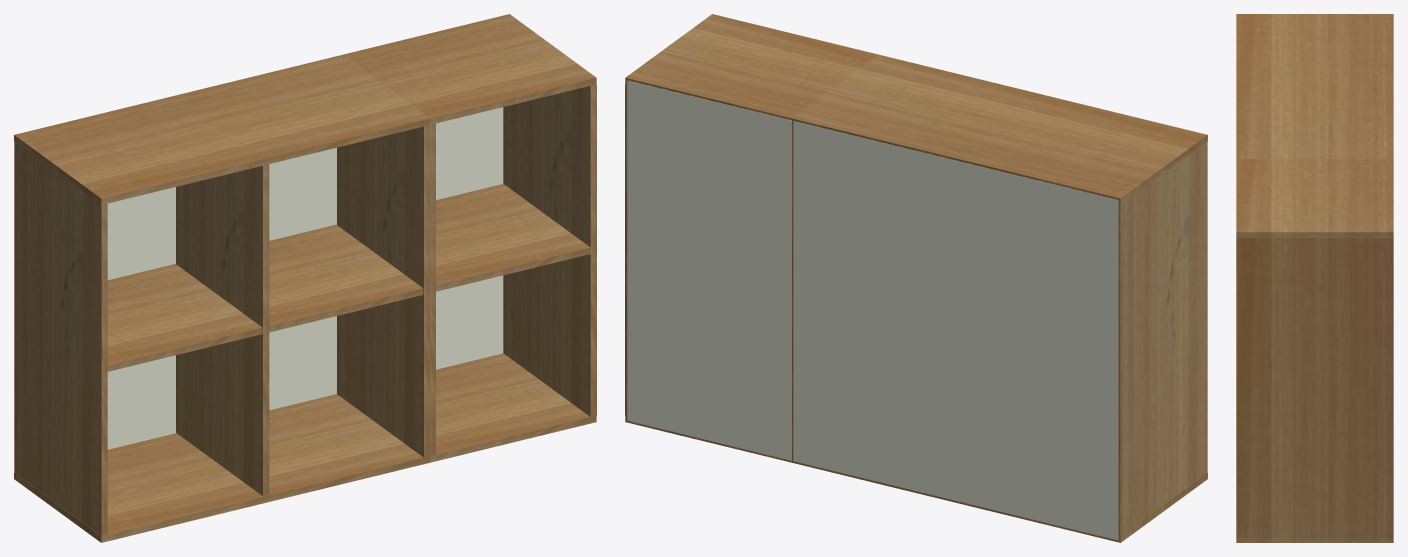
Rendered from plateskap.glb.
3 renders of one model, left to right at view 1: azimuth 30°, elevation 25°; view 2: azimuth 150°, elevation 25°; view 3: azimuth 270°, elevation 25°, orthographic. The views are drawn at different scales.
Parts seen in each view (by area): view 1: 4 cases_0, 2 cases_1; view 2: 4 cases_0, 2 cases_1; view 3: 2 cases_1, 4 cases_0.
Boxes of the visible parts, x1,y1,x2,y2 form: 4 cases_0: (14, 54, 430, 542); 2 cases_1: (343, 14, 596, 462); 4 cases_0: (791, 54, 1207, 542); 2 cases_1: (625, 14, 878, 462); 2 cases_1: (1236, 159, 1393, 542); 4 cases_0: (1236, 14, 1393, 158).
Size of the model in its own units: 1.28 by 0.85 by 0.3905.
2 materials, 1 textured.
